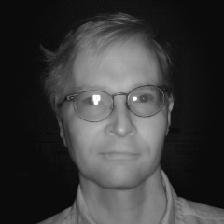normal: (36, 17, 188, 193)
